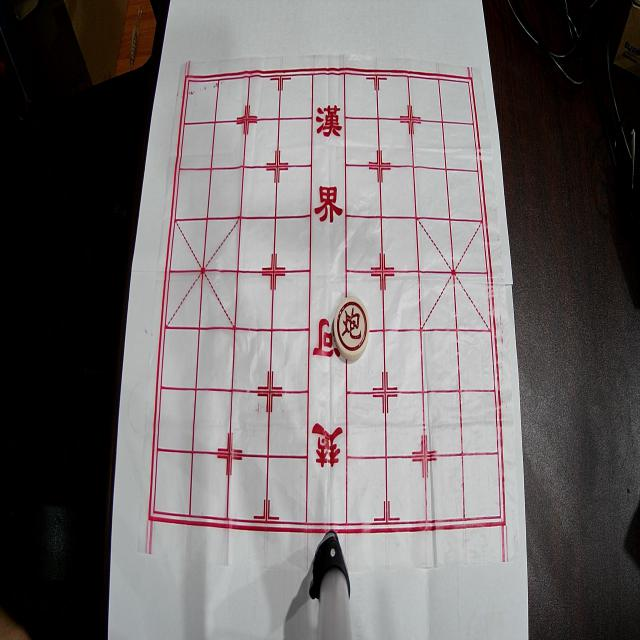red-cannon: (334, 296, 369, 360)
